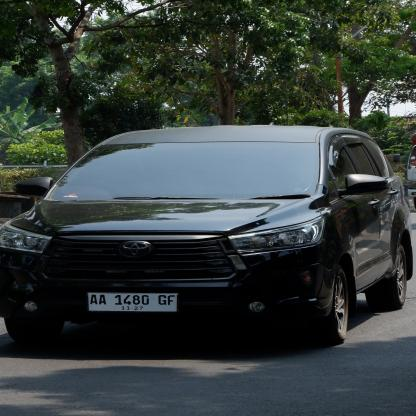Plat-Nomor: (85, 290, 183, 314)
